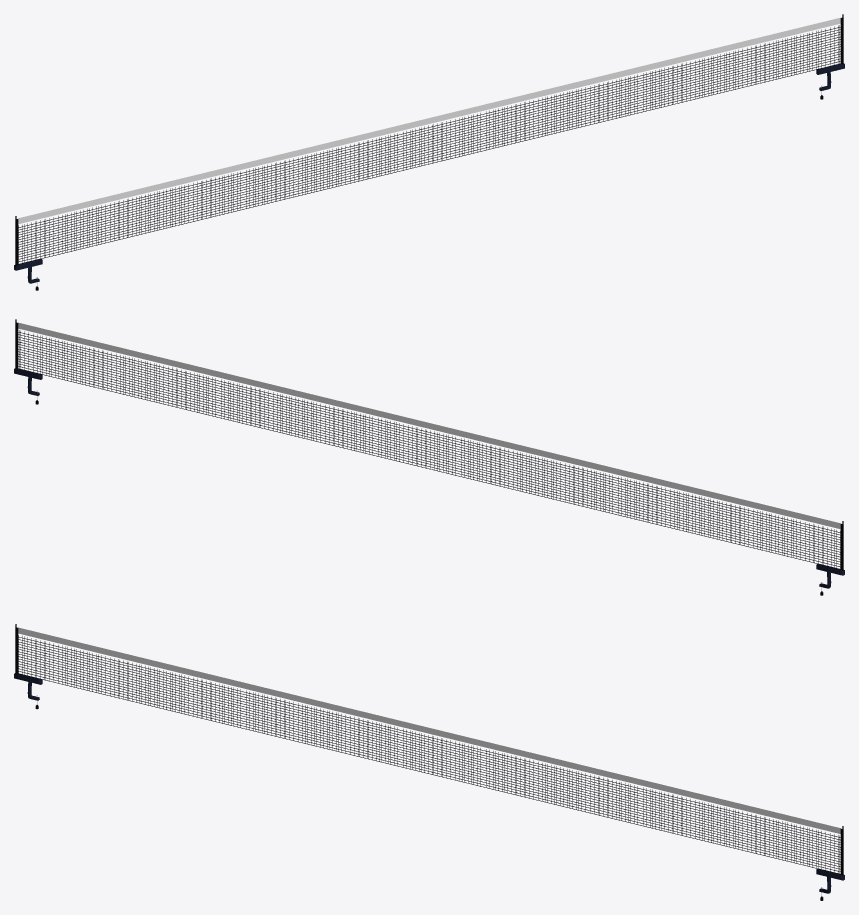
Rendered from table_tennis_net.gltf.
The picture shows the model from 3 angles, top to bottom: view 1: azimuth 30°, elevation 25°; view 2: azimuth 150°, elevation 25°; view 3: azimuth 330°, elevation 25°; orthographic projection.
Parts seen in each view (by area): view 1: NET HOLDER; view 2: NET HOLDER; view 3: NET HOLDER.
Part boxes in pixels (left/top/right/bottom): NET HOLDER: left=14, top=14, right=844, bottom=290; NET HOLDER: left=14, top=319, right=844, bottom=595; NET HOLDER: left=14, top=624, right=844, bottom=900.
Size of the model in its own units: 3.21 by 0.2935 by 0.0116.
